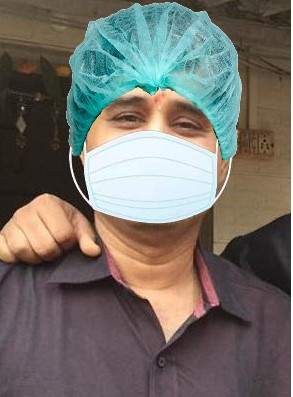with_mask_and_cap: (69, 3, 237, 227)
